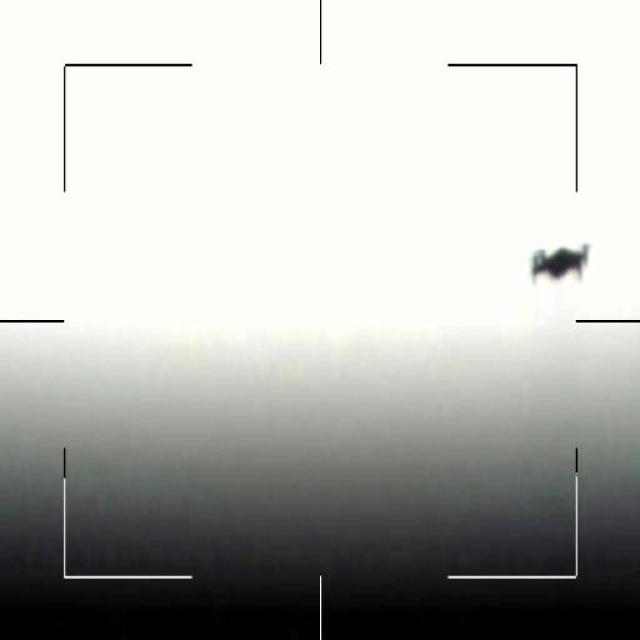bird: (524, 232, 592, 279)
